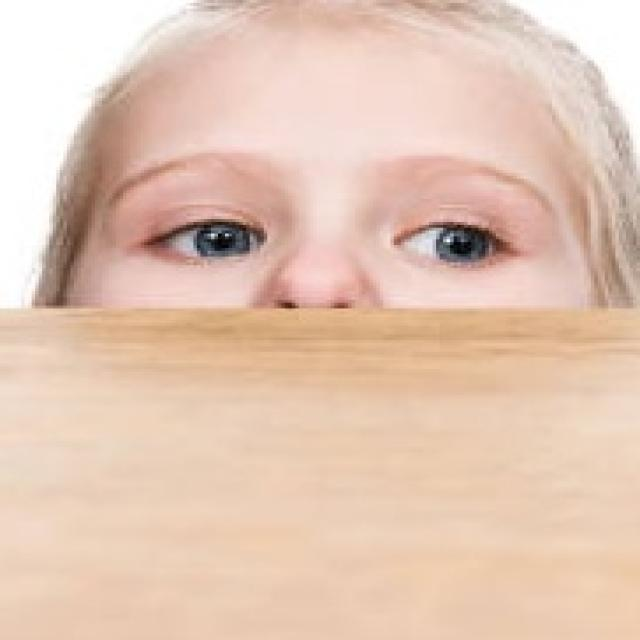Anxiety: (60, 22, 614, 314)
